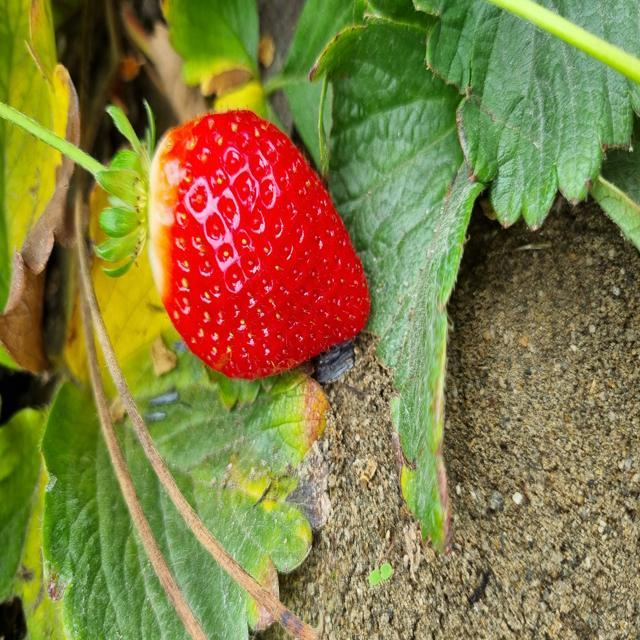Saludable: (142, 106, 374, 380)
